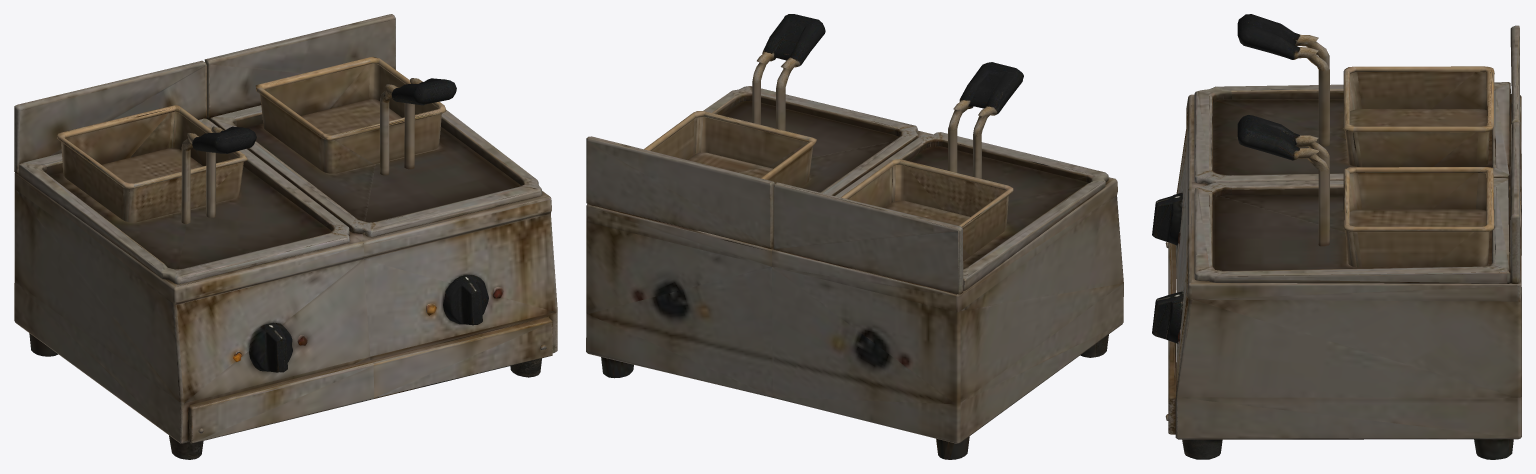
The model's file is p7-deep-fryer-t25.glb.
3 renders of one model, left to right at view 1: azimuth 30°, elevation 25°; view 2: azimuth 150°, elevation 25°; view 3: azimuth 270°, elevation 25°, orthographic. The views are drawn at different scales.
Parts seen in each view (by area): view 1: p7-deep-fryer-t25; view 2: p7-deep-fryer-t25; view 3: p7-deep-fryer-t25.
Part boxes in pixels (<box>): p7-deep-fryer-t25: <box>14,14,557,459</box>; p7-deep-fryer-t25: <box>586,14,1123,459</box>; p7-deep-fryer-t25: <box>1152,14,1521,459</box>.
Bounding box in the file's own units: 0.55 × 0.4 × 0.45.
Materials: 1 (1 with a texture image).
